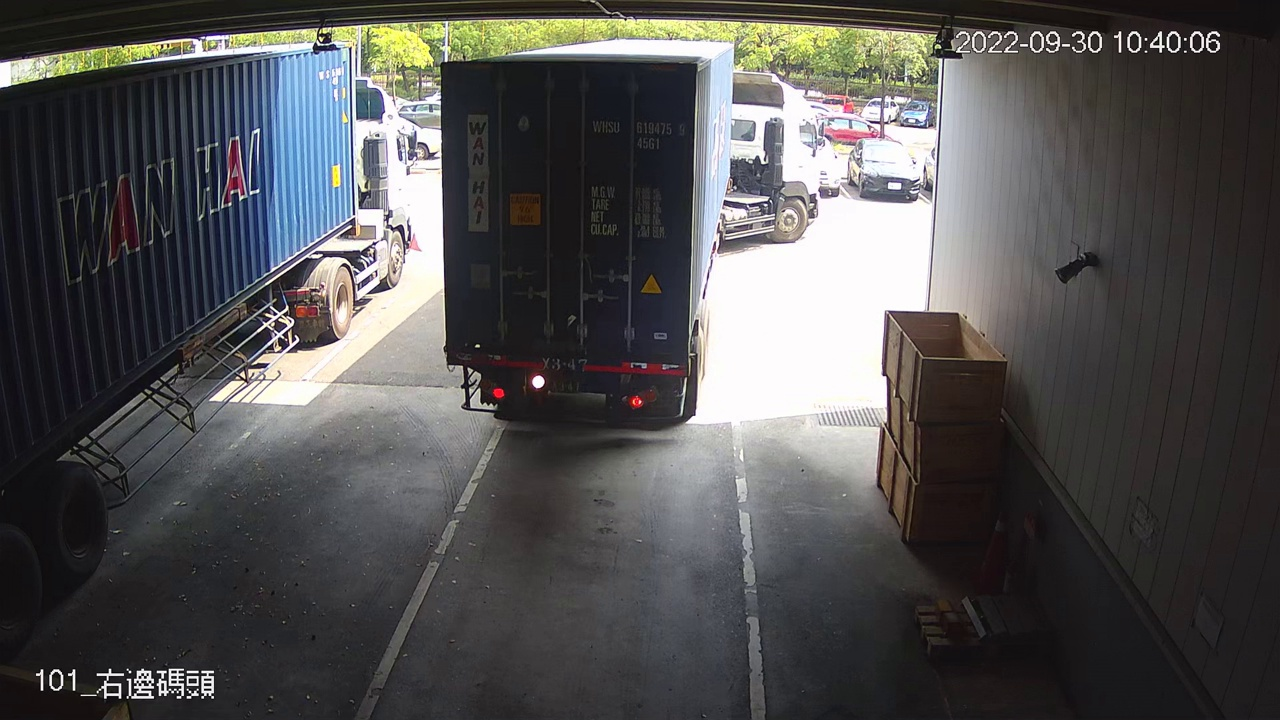container: (587, 113, 689, 155)
